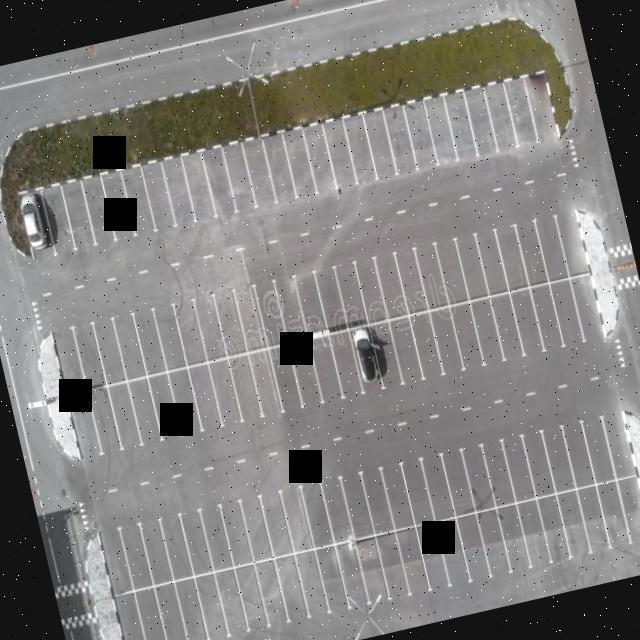Car: (21, 193, 53, 256), (350, 329, 383, 389)
Free: (478, 80, 526, 156), (525, 67, 572, 143), (498, 74, 544, 148), (439, 88, 483, 163), (458, 84, 502, 159), (156, 153, 200, 226), (421, 93, 461, 173), (258, 131, 300, 206), (401, 99, 444, 172), (381, 104, 423, 177), (404, 99, 444, 174), (318, 112, 359, 185), (119, 163, 161, 234), (360, 106, 402, 176), (92, 522, 134, 592), (340, 110, 380, 183), (218, 141, 260, 210), (199, 144, 239, 216), (300, 120, 340, 192), (270, 550, 311, 620), (238, 135, 278, 206), (335, 469, 377, 536), (437, 447, 479, 514), (114, 518, 155, 586), (598, 408, 639, 476), (60, 393, 104, 456), (566, 275, 610, 338), (210, 565, 250, 634), (230, 561, 271, 628), (330, 540, 371, 607), (138, 158, 178, 226), (192, 571, 232, 639), (183, 363, 224, 429), (105, 380, 144, 449), (267, 342, 306, 410), (280, 129, 320, 195), (554, 212, 594, 278), (194, 501, 234, 567), (498, 432, 538, 498), (319, 471, 357, 540), (227, 355, 266, 422), (305, 333, 344, 400), (393, 526, 432, 593), (46, 325, 88, 387), (234, 496, 276, 558), (254, 490, 296, 552), (326, 332, 366, 397), (251, 557, 291, 622), (147, 372, 186, 438), (166, 368, 205, 434), (293, 550, 332, 616), (332, 263, 372, 327), (352, 259, 392, 323), (135, 518, 175, 582), (460, 443, 498, 510), (581, 414, 619, 481), (576, 487, 614, 554), (125, 377, 164, 442), (373, 533, 412, 598), (298, 482, 338, 545), (41, 184, 78, 252), (62, 178, 99, 246), (181, 151, 218, 219), (314, 545, 352, 611), (520, 428, 558, 494), (475, 509, 513, 575), (515, 500, 553, 566), (245, 350, 284, 414), (413, 246, 452, 310), (433, 240, 472, 304), (526, 284, 565, 348), (176, 506, 215, 570), (418, 453, 457, 517), (276, 485, 316, 547), (373, 254, 411, 319), (560, 422, 599, 485), (103, 168, 138, 238), (359, 463, 396, 529), (378, 460, 415, 526), (399, 456, 436, 522), (481, 437, 518, 503), (388, 319, 426, 383), (157, 512, 195, 576), (313, 269, 352, 331), (494, 228, 533, 290), (216, 500, 255, 562), (172, 577, 211, 639), (207, 360, 244, 425), (596, 484, 636, 544), (69, 322, 107, 385), (548, 279, 586, 342), (81, 176, 117, 242), (354, 538, 391, 602), (171, 300, 209, 362), (489, 294, 527, 356), (394, 250, 430, 315), (541, 424, 578, 487), (416, 524, 452, 588), (538, 497, 574, 561), (253, 283, 290, 345), (454, 237, 491, 299), (515, 224, 552, 286), (293, 276, 331, 336), (286, 343, 324, 403), (449, 307, 486, 368), (456, 513, 491, 577), (87, 388, 123, 450), (152, 305, 188, 367), (212, 291, 248, 353), (497, 507, 533, 569), (557, 492, 593, 554), (408, 314, 445, 374), (427, 310, 464, 370), (233, 287, 269, 348), (534, 220, 570, 281), (509, 290, 544, 352), (132, 311, 168, 371), (192, 296, 228, 356), (469, 302, 506, 360), (93, 318, 127, 381), (475, 233, 510, 294), (438, 522, 472, 584), (112, 314, 147, 374), (274, 280, 309, 340), (152, 581, 188, 638), (134, 583, 166, 640), (617, 477, 640, 546), (112, 594, 146, 640), (386, 338, 404, 389)
